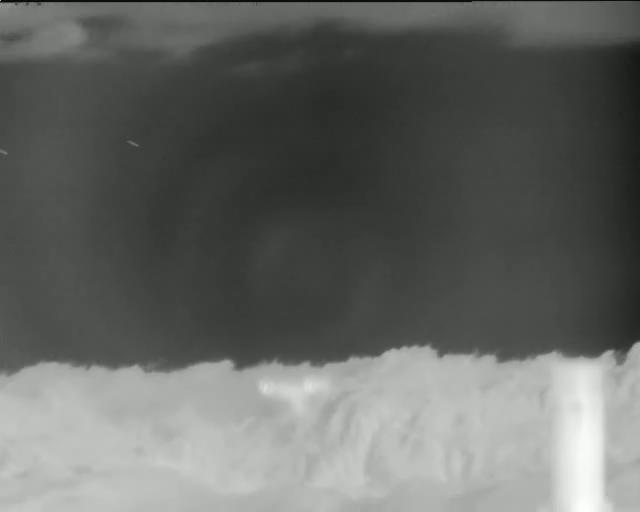uav: (256, 372, 331, 417)
